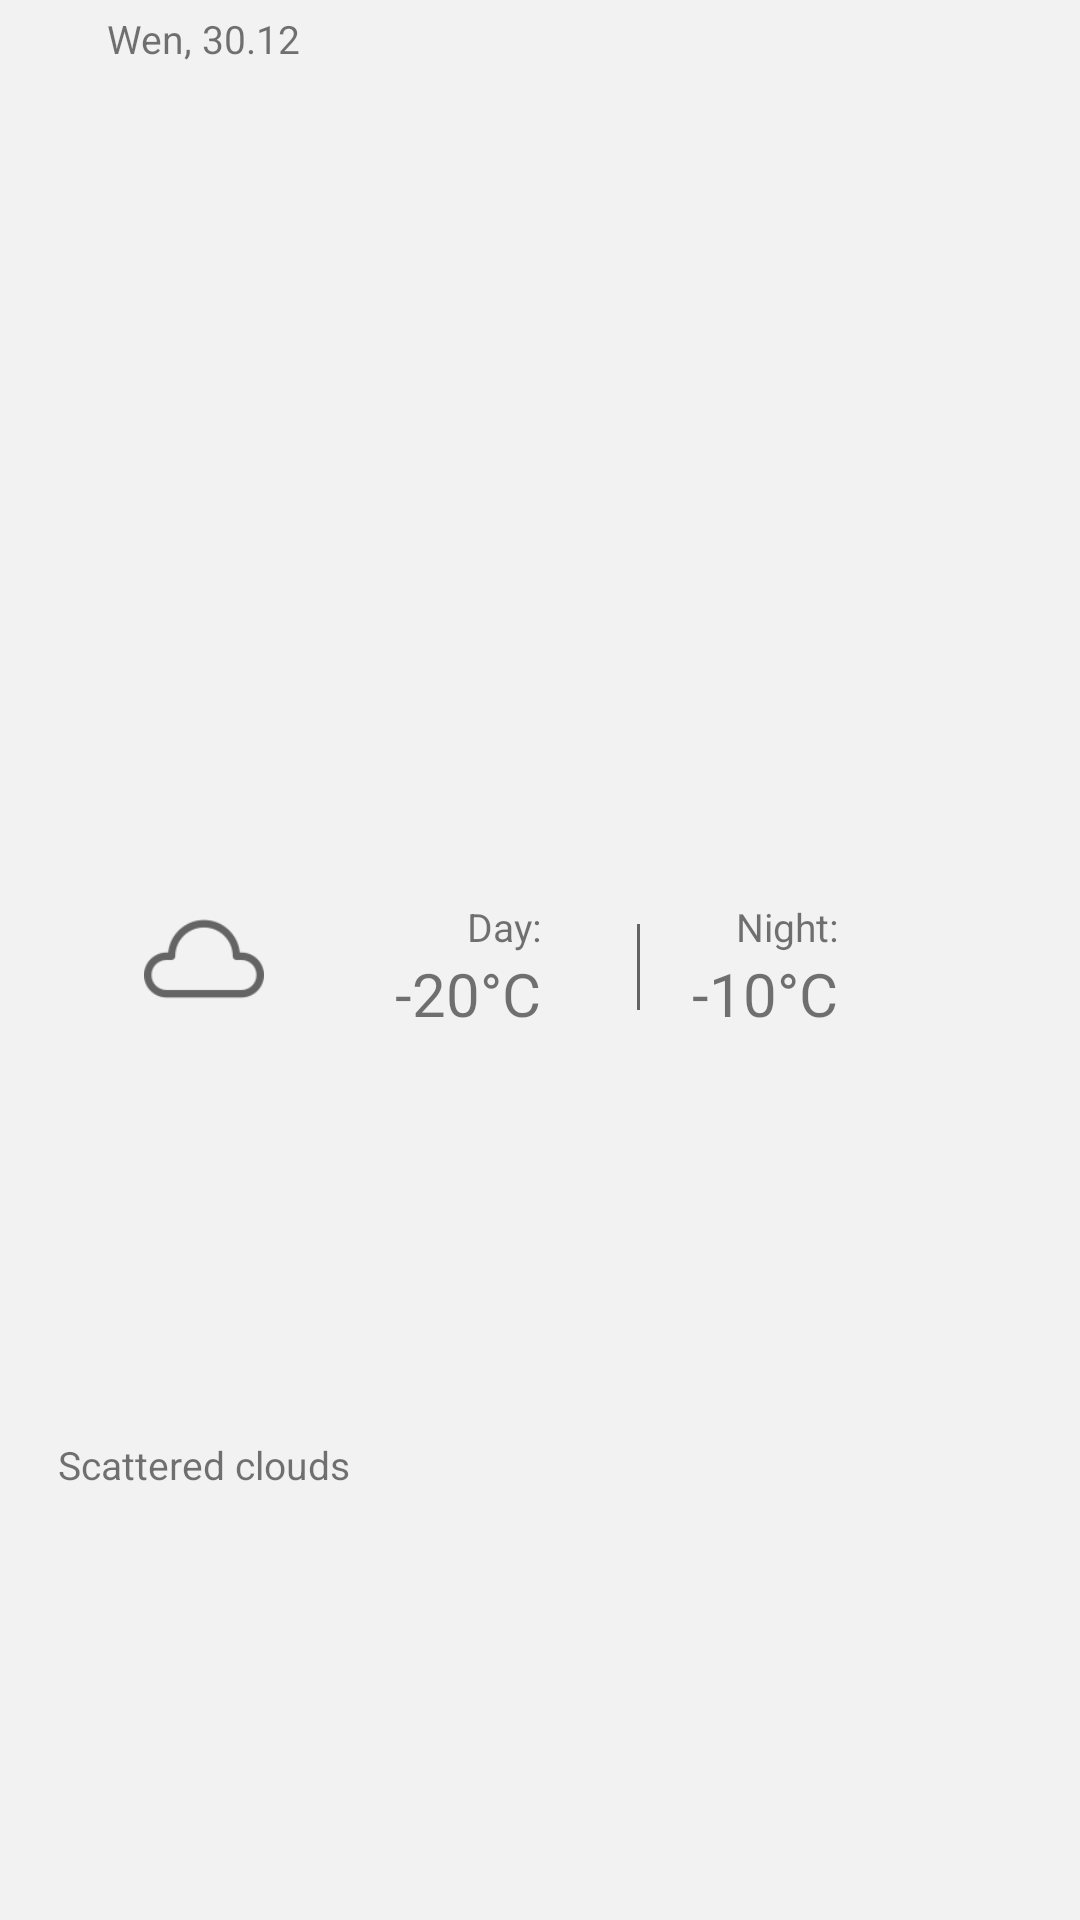

Icons on this 1080 x 1920 Android screen, each with its box as bbox(x1, y1, x2, y2):
cloud: bbox(144, 919, 264, 998)
